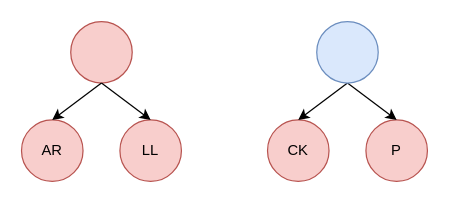
This 449x203 diagram has some shape labels left out. The shapes that lost their labels are listed below. From the top down, each one's centre as x and y in pixels, then its label:
point (100, 51): BE
point (346, 51): STO
